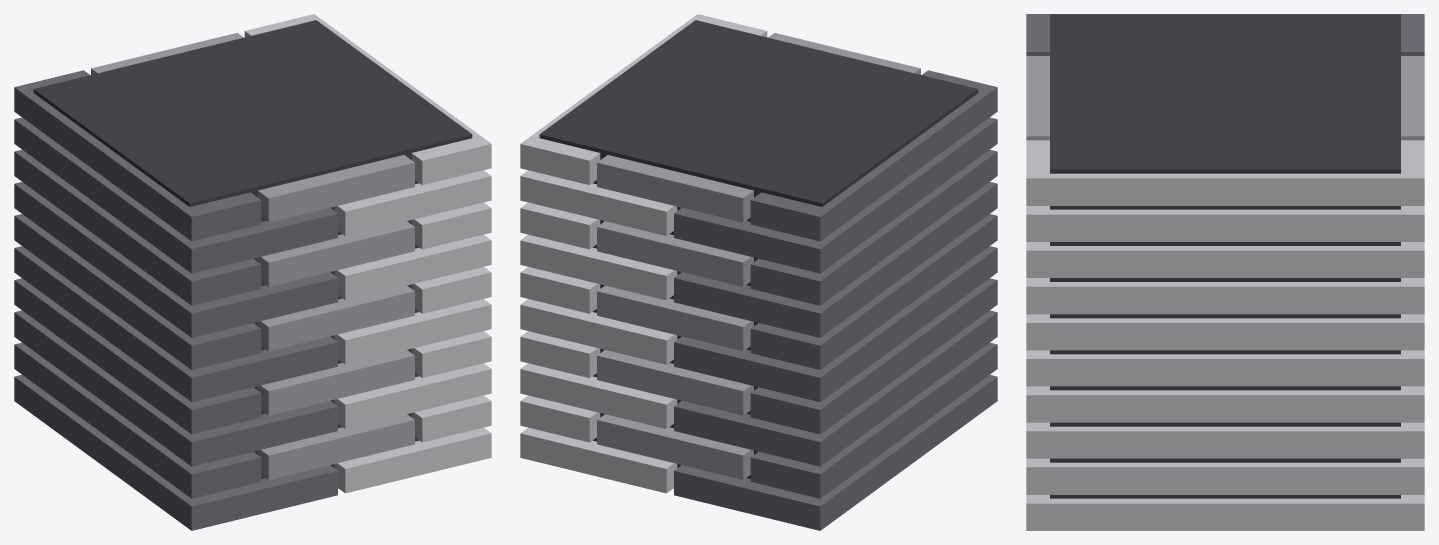
Rendered from gimmick_wall.obj.
3 renders of one model, left to right at view 1: azimuth 30°, elevation 25°; view 2: azimuth 150°, elevation 25°; view 3: azimuth 270°, elevation 25°, orthographic. The views are drawn at different scales.
Parts seen in each view (by area): view 1: gimmick_wall; view 2: gimmick_wall; view 3: gimmick_wall.
Part boxes in pixels (x1,y1,x2,y2): gimmick_wall: (14,14,491,530); gimmick_wall: (520,14,997,530); gimmick_wall: (1026,14,1424,530).
Size of the model in its own units: 0.976 by 1 by 1.
Materials: 1 (1 with a texture image).
